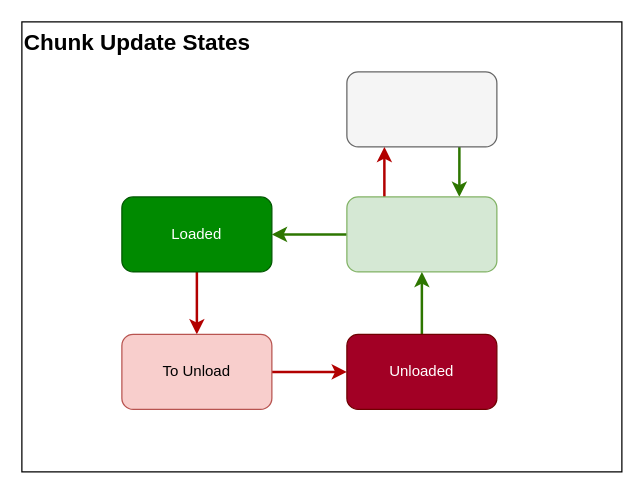
This 644x494 diagram has some shape labels left out. The box of each missing label's shape, as (x1, y1, x2, y2) in pixels:
None: (346, 71, 497, 147)
To Load: (346, 196, 497, 272)
